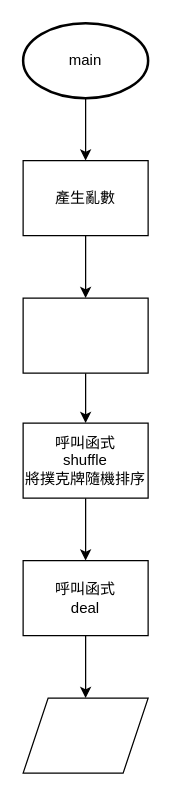
Image size: 170x795. Some labels were removed from this diagram. Each missing label, with the centre of its shape:
"呼叫函式 fillDeck 把撲克牌的花色及數字載入" belongs at (x=85, y=335).
"顯示結果" belongs at (x=85, y=735).
